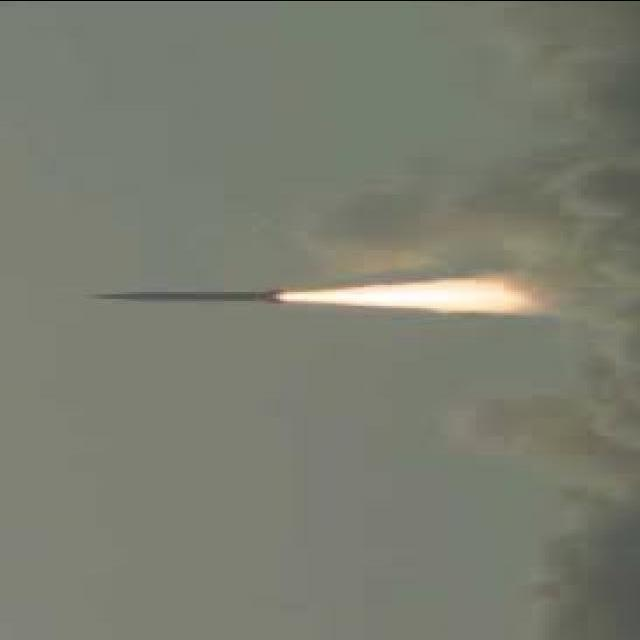missile: (92, 287, 282, 309)
